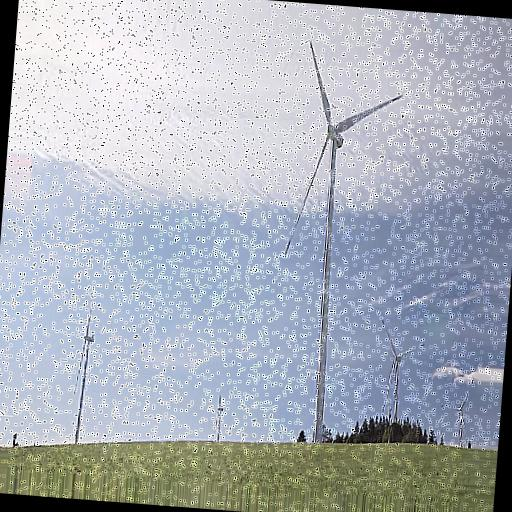wind turbine: (284, 40, 403, 443), (382, 324, 410, 449), (75, 311, 94, 445), (445, 390, 478, 452)
